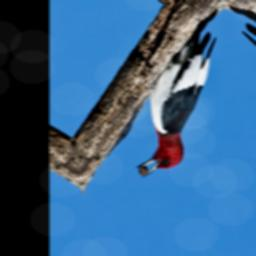Woodpecker: (109, 25, 243, 182)
